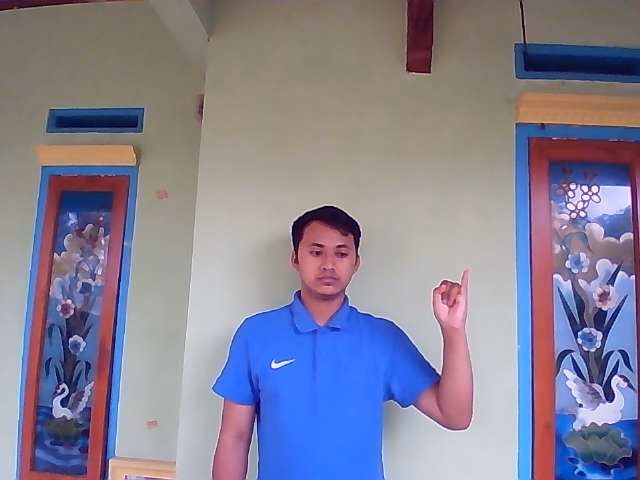I: (432, 269, 469, 331)
